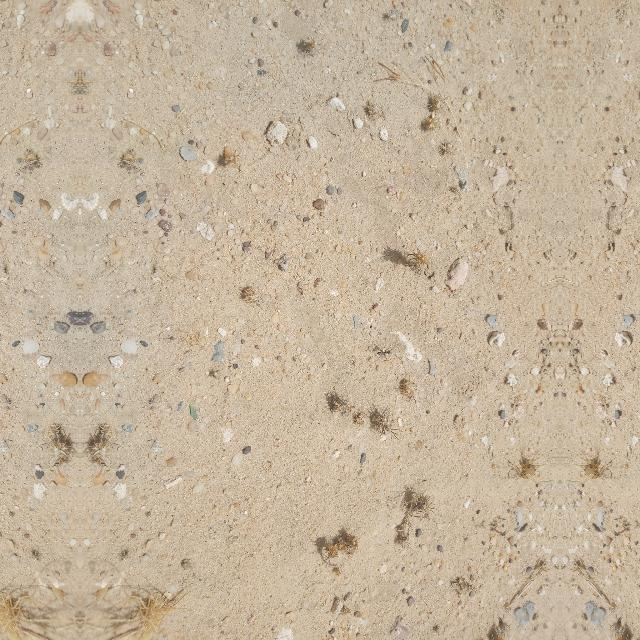Cataglyphis: (375, 346, 391, 358)
